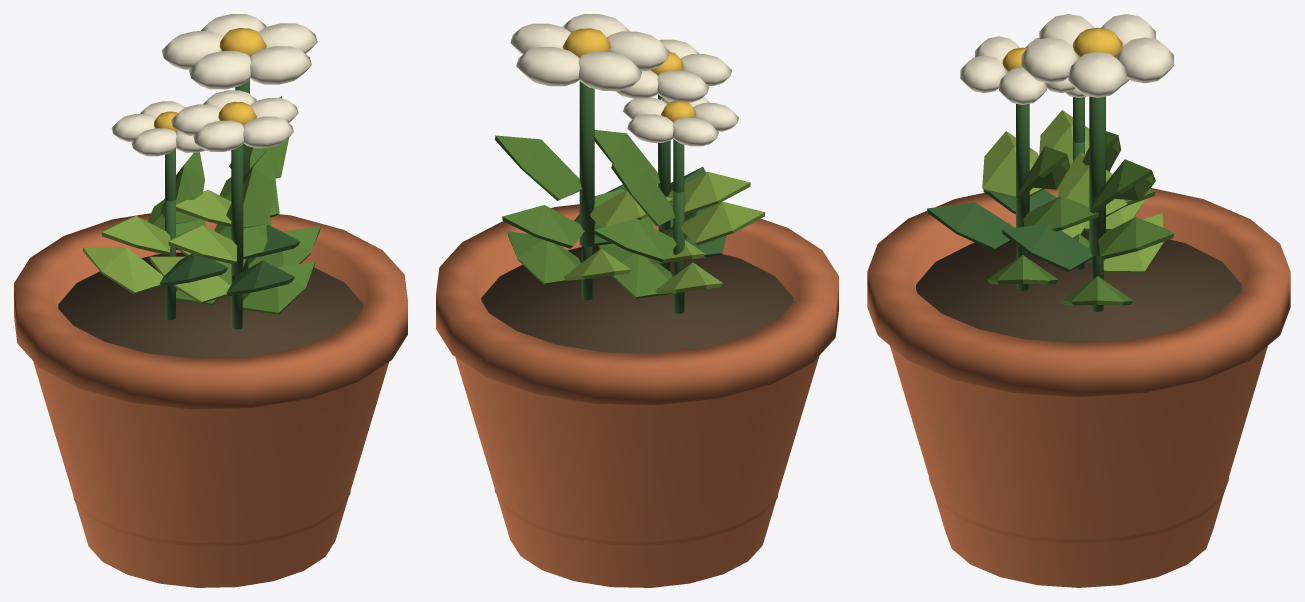
File: 24_flower_pot.glb
3 renders of one model, left to right at view 1: azimuth 30°, elevation 25°; view 2: azimuth 150°, elevation 25°; view 3: azimuth 270°, elevation 25°, orthographic. The views are drawn at different scales.
Parts seen in each view (by area): view 1: Terracotta pot.004, Pot soil.004, Leaf.220, Leaf.236, Petal.053, Petal.054, Leaf.231, Leaf.235, Leaf.223, Petal.052, Flower stem.011, Leaf.232 (+22 smaller); view 2: Terracotta pot.004, Pot soil.004, Leaf.230, Flower stem.010, Leaf.225, Leaf.223, Petal.051, Petal.052, Leaf.222, Leaf.228, Leaf.219, Leaf.224 (+21 smaller); view 3: Terracotta pot.004, Pot soil.004, Leaf.227, Leaf.233, Flower stem.010, Petal.050, Leaf.235, Petal.054, Petal.051, Leaf.228, Leaf.230, Leaf.234 (+16 smaller).
Boxes of the visible parts, x1,y1,x2,y2 form: Terracotta pot.004: [14, 213, 407, 587]; Pot soil.004: [58, 252, 363, 358]; Leaf.220: [82, 247, 163, 294]; Leaf.236: [226, 148, 275, 228]; Petal.053: [189, 51, 250, 89]; Petal.054: [250, 46, 311, 84]; Leaf.231: [242, 262, 314, 314]; Leaf.235: [168, 225, 237, 264]; Leaf.223: [101, 216, 170, 254]; Petal.052: [161, 31, 223, 69]; Flower stem.011: [231, 144, 243, 276]; Leaf.232: [149, 256, 230, 303]; Terracotta pot.004: [436, 204, 838, 587]; Pot soil.004: [481, 245, 793, 353]; Leaf.230: [495, 135, 581, 200]; Flower stem.010: [579, 81, 594, 246]; Leaf.225: [507, 231, 581, 285]; Leaf.223: [681, 201, 765, 245]; Petal.051: [516, 47, 579, 86]; Petal.052: [578, 51, 641, 91]; Leaf.222: [594, 218, 676, 262]; Leaf.228: [502, 205, 584, 248]; Leaf.219: [599, 245, 673, 298]; Leaf.224: [611, 164, 675, 225]; Terracotta pot.004: [867, 186, 1290, 587]; Pot soil.004: [916, 231, 1241, 342]; Leaf.227: [1002, 223, 1093, 271]; Leaf.233: [927, 202, 1014, 250]; Flower stem.010: [1089, 96, 1105, 256]; Petal.050: [1068, 52, 1126, 97]; Leaf.235: [982, 131, 1043, 198]; Petal.054: [1021, 37, 1079, 83]; Petal.051: [1115, 37, 1173, 83]; Leaf.228: [1098, 217, 1173, 259]; Leaf.230: [1089, 159, 1155, 213]; Leaf.234: [1023, 196, 1098, 231].
Bounding box in the file's own units: 0.6784 × 0.9227 × 0.6784.
